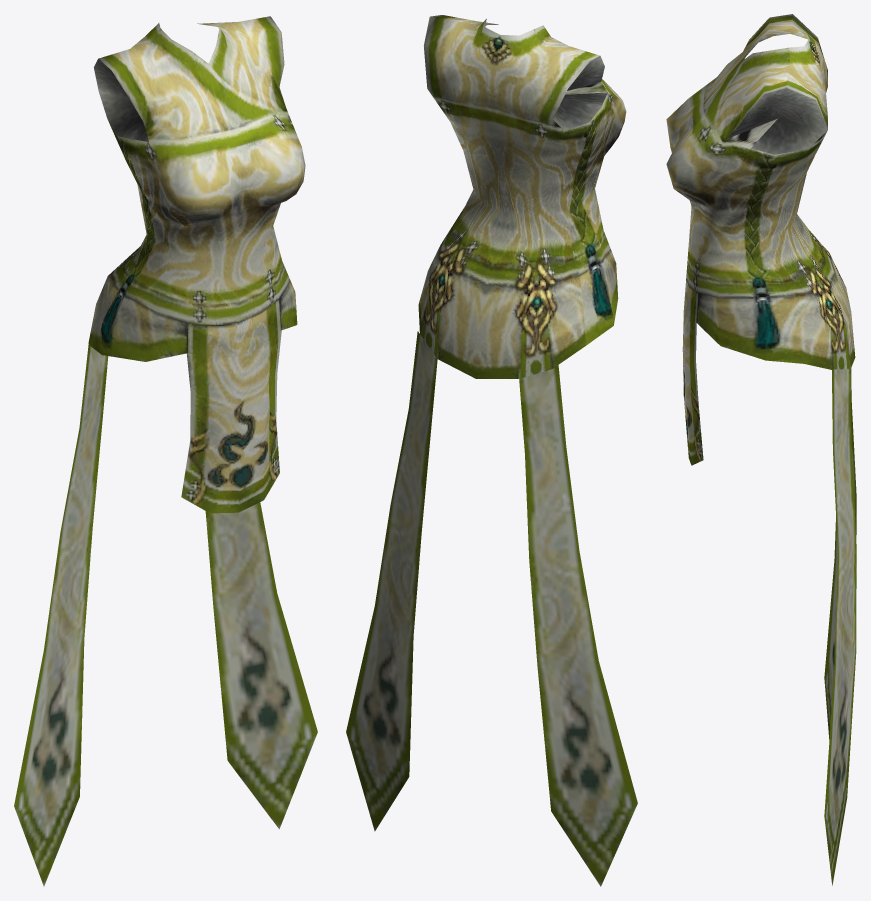
File: clothes_04_ba.glb
The picture shows the model from 3 angles, left to right: view 1: azimuth 30°, elevation 25°; view 2: azimuth 150°, elevation 25°; view 3: azimuth 270°, elevation 25°; orthographic projection. The views are drawn at different scales.
Visible parts, largest first — view 1: clothes_04_ba, clothes_04_ba_2s; view 2: clothes_04_ba, clothes_04_ba_2s; view 3: clothes_04_ba, clothes_04_ba_2s.
Part boxes in pixels (box(x1,y1,x2,y2)): clothes_04_ba: box(88, 16, 305, 513); clothes_04_ba_2s: box(14, 344, 317, 886); clothes_04_ba: box(418, 15, 626, 378); clothes_04_ba_2s: box(346, 331, 637, 886); clothes_04_ba: box(666, 14, 855, 465); clothes_04_ba_2s: box(824, 368, 856, 885).
Bounding box in the file's own units: 0.5322 × 1.43 × 0.3087.
Materials: 2 (2 with a texture image).
